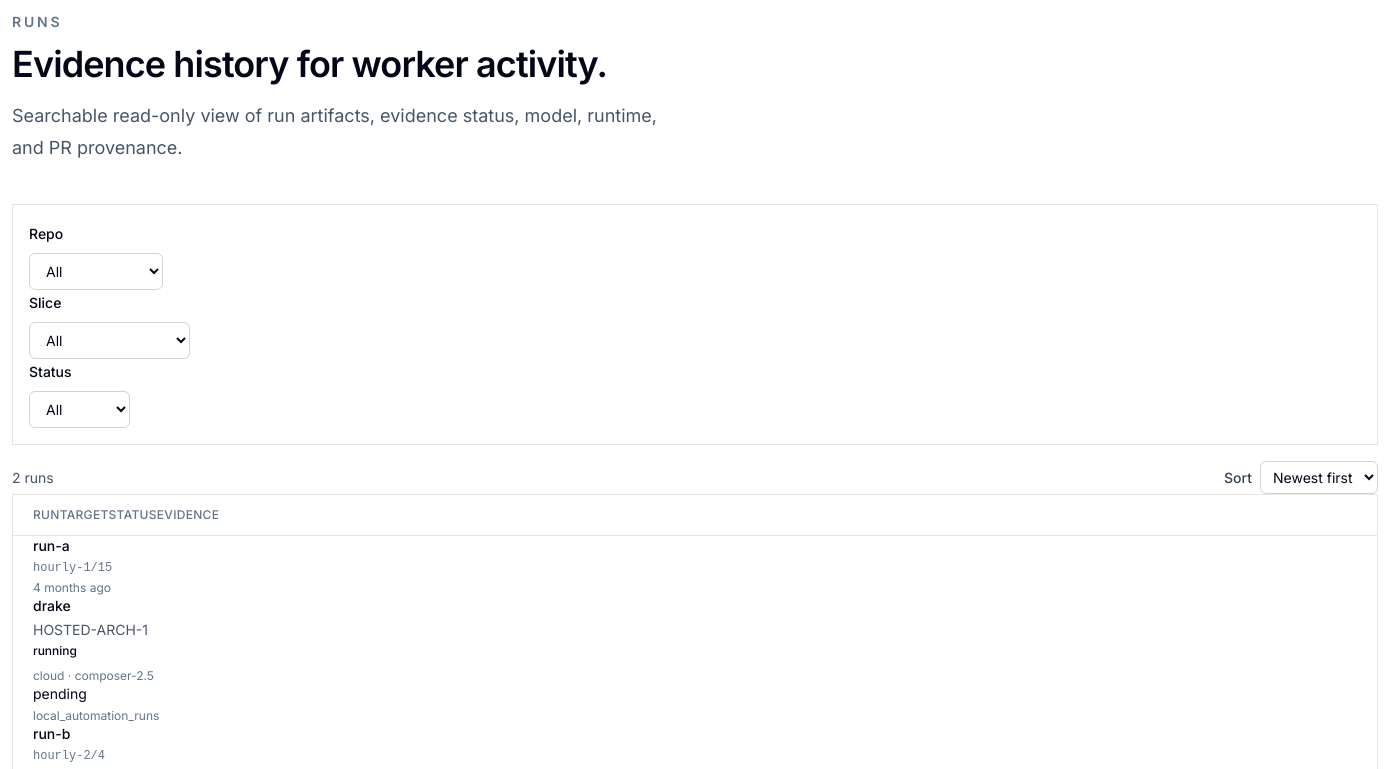
it: Run history › filters through the visible status select and shows filtered empty state
Select "success" in the dropdown labelled "Status" at (80, 410), box [29, 391, 130, 428]
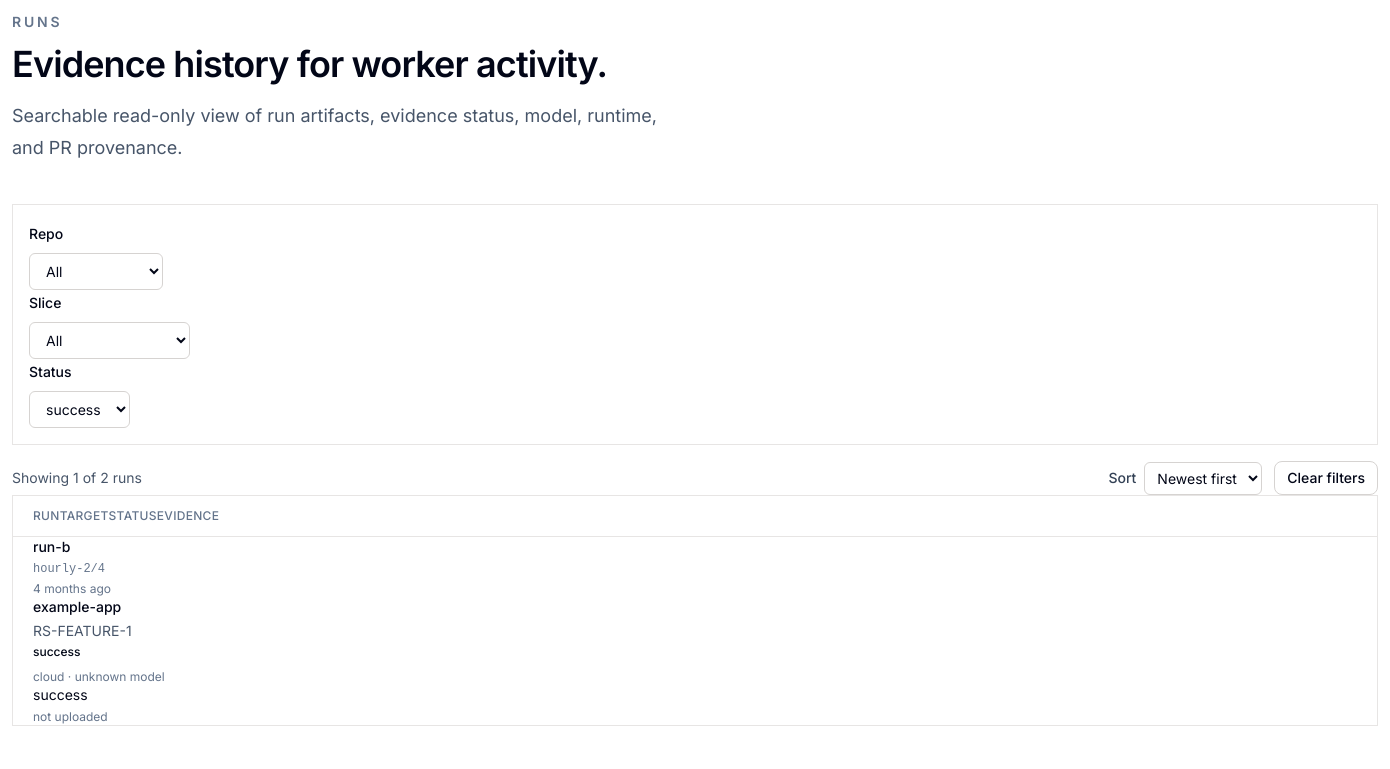
Expected: the link "run-b" is shown, [33, 538, 70, 555]
Now the link "run-a" is gone
Select "drake" in the dropdown labelled "Repo" at (96, 272), box [29, 253, 163, 290]
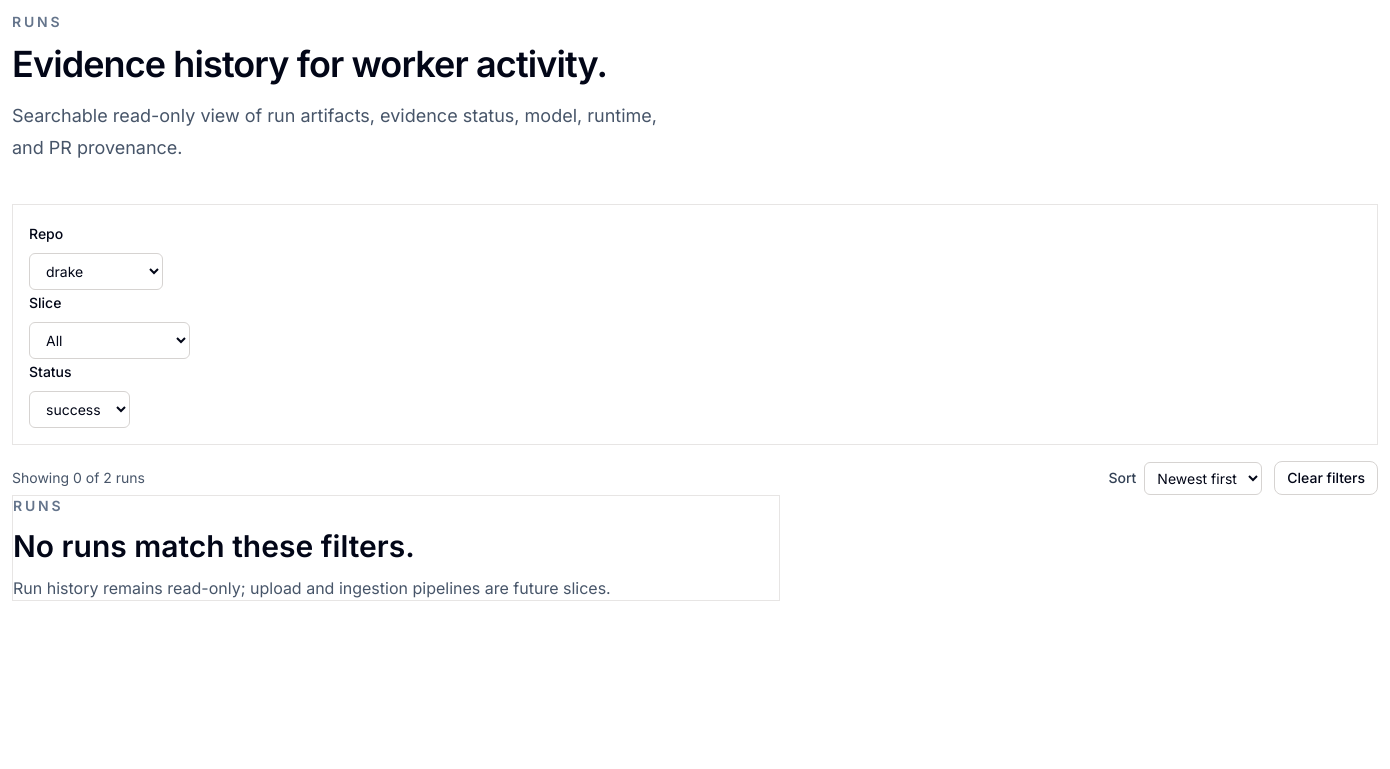
Now the heading "No runs match these filters." is shown, box [13, 528, 415, 564]
